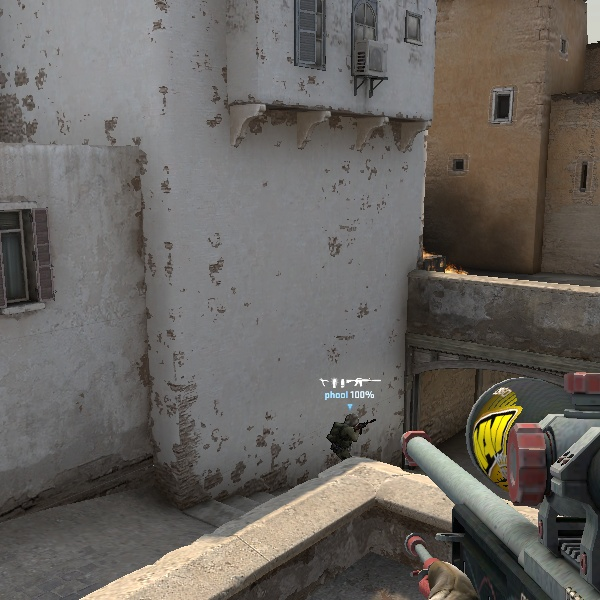ct_body: (328, 412, 361, 457)
ct_head: (344, 413, 359, 428)
